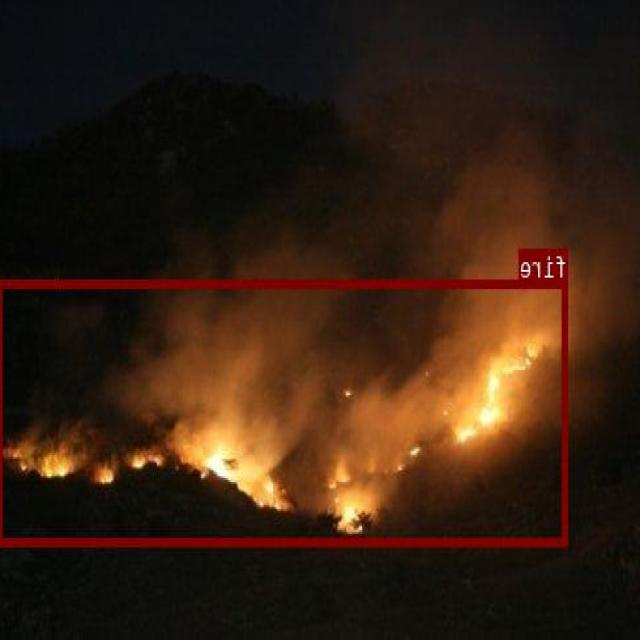fire: (0, 277, 568, 544)
